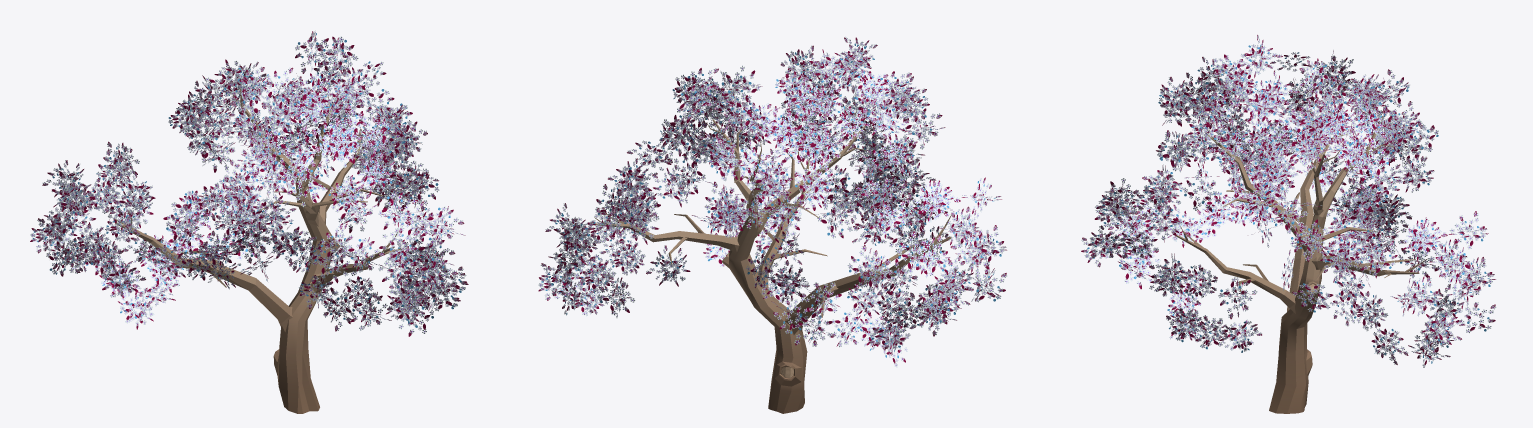
The model's file is treeFlowerBlue.fbx.
3 renders of one model, left to right at view 1: azimuth 30°, elevation 25°; view 2: azimuth 150°, elevation 25°; view 3: azimuth 270°, elevation 25°, orthographic. The views are drawn at different scales.
Visible parts, largest first — view 1: PT_Fruit_Tree_01_blue; view 2: PT_Fruit_Tree_01_blue; view 3: PT_Fruit_Tree_01_blue.
Boxes of the visible parts, bbox=[...] form: PT_Fruit_Tree_01_blue: bbox=[30, 30, 468, 413]; PT_Fruit_Tree_01_blue: bbox=[538, 37, 1006, 413]; PT_Fruit_Tree_01_blue: bbox=[1081, 35, 1496, 413].
Bounding box in the file's own units: 66.1 × 51.88 × 60.17.
